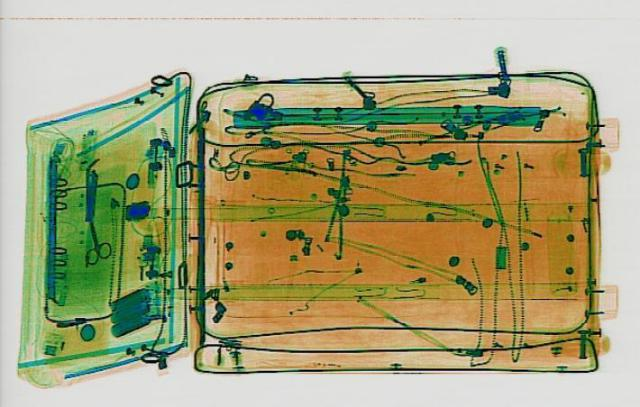Scissors: (73, 216, 114, 263)
